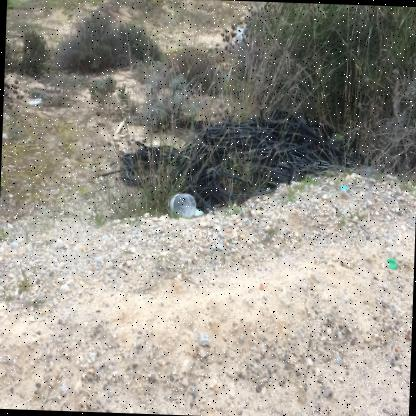Clear plastic bottle: (167, 194, 196, 219)
Plastic bottle cap: (387, 258, 398, 269), (340, 186, 348, 191)
Unlabeled litter: (194, 208, 204, 216)
